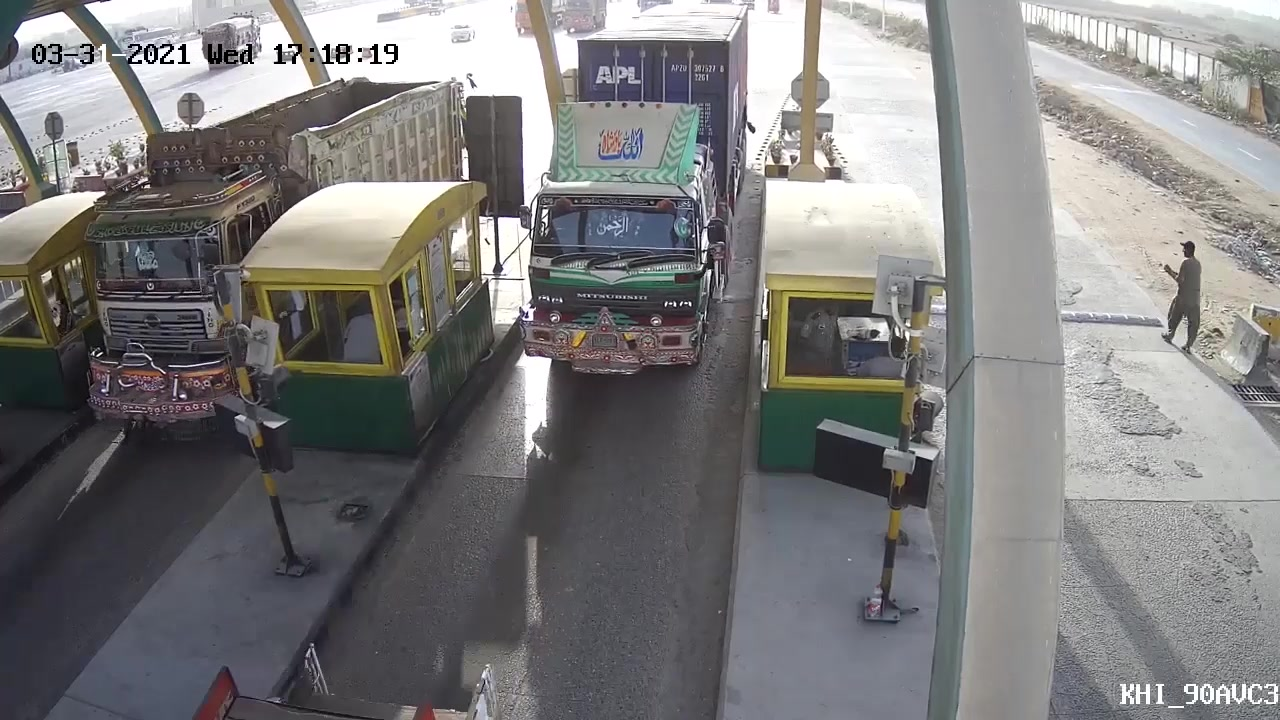F6: (508, 3, 758, 383)
